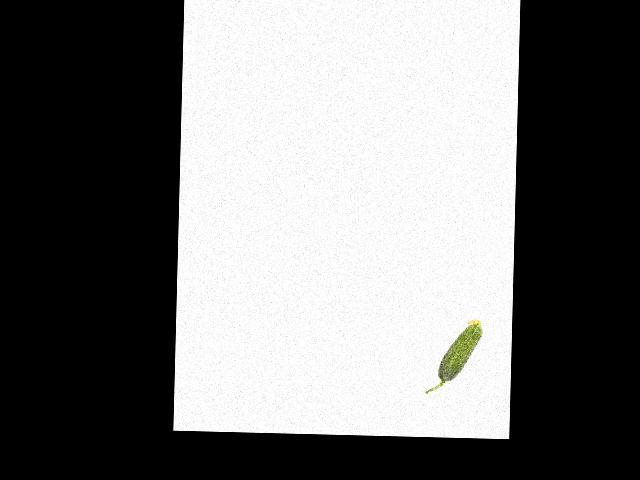cucumber: (425, 316, 483, 394)
